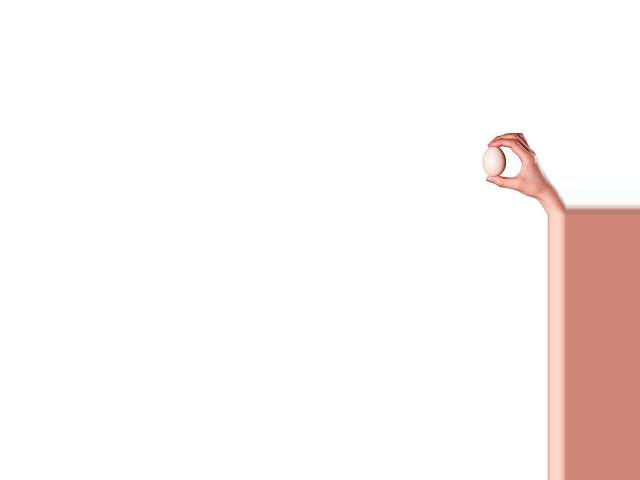egg: (482, 146, 506, 177)
